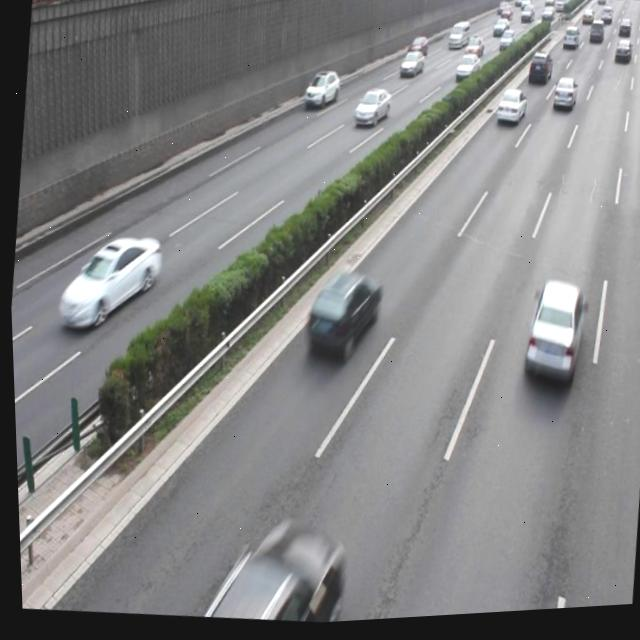car: (198, 507, 345, 631), (52, 224, 162, 336), (299, 265, 382, 365), (515, 279, 585, 390), (350, 87, 391, 134), (300, 70, 341, 115), (491, 92, 526, 132)
